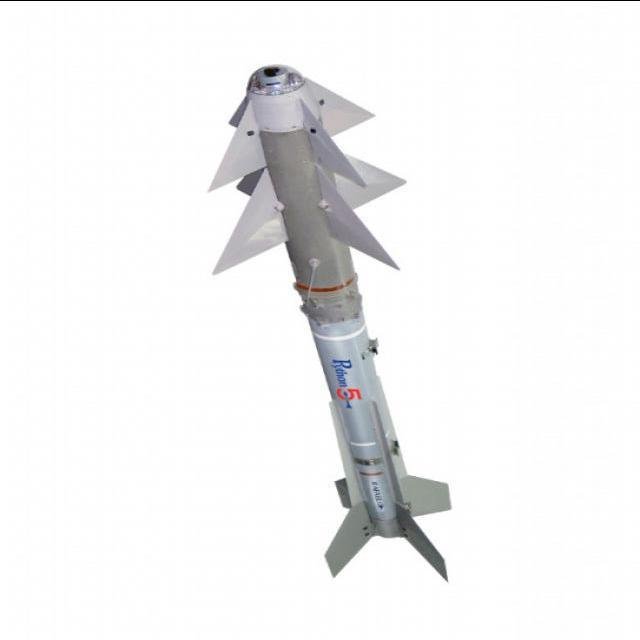missile: (214, 71, 473, 575)
